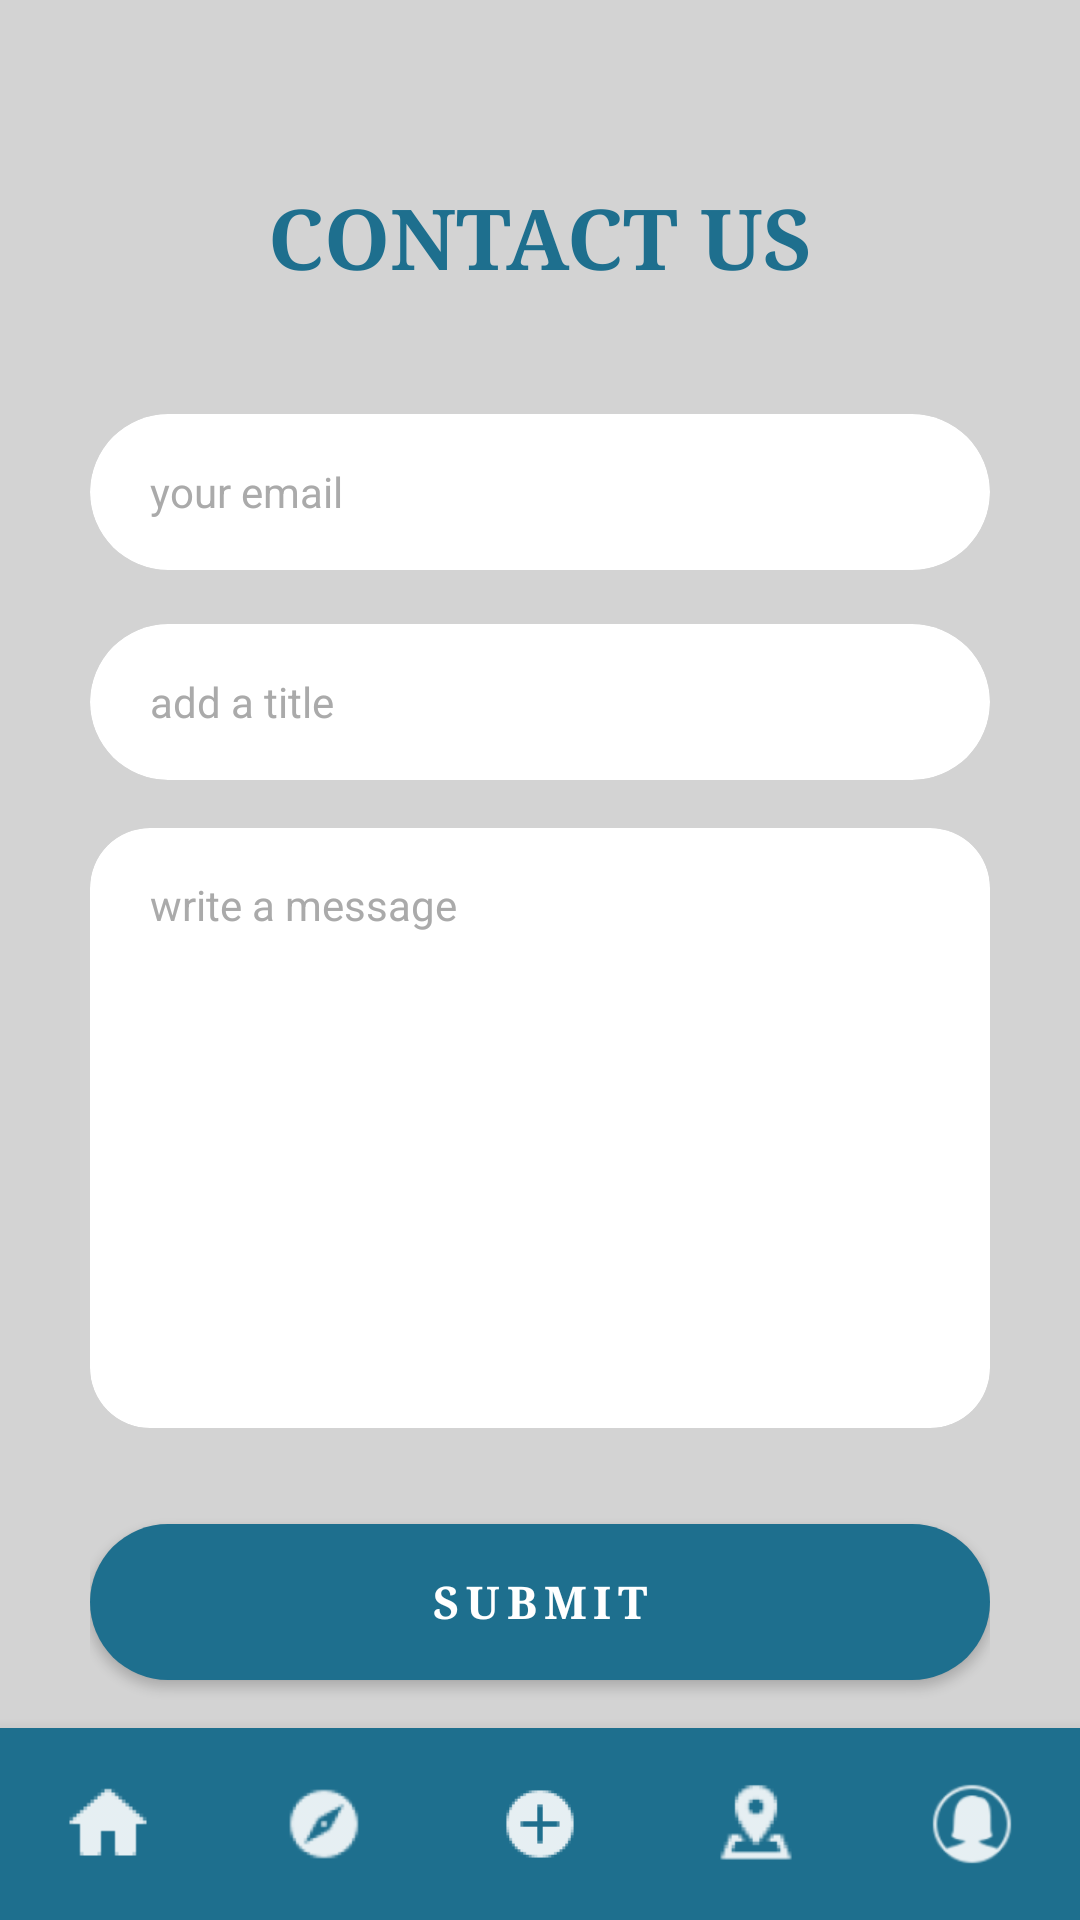

Named icons in this screenshot (1080*1920) and their centers, (x=x, y=y):
add: (x=540, y=1824)
area: (x=756, y=1822)
compass: (x=324, y=1824)
home: (x=108, y=1822)
profile: (x=971, y=1824)
